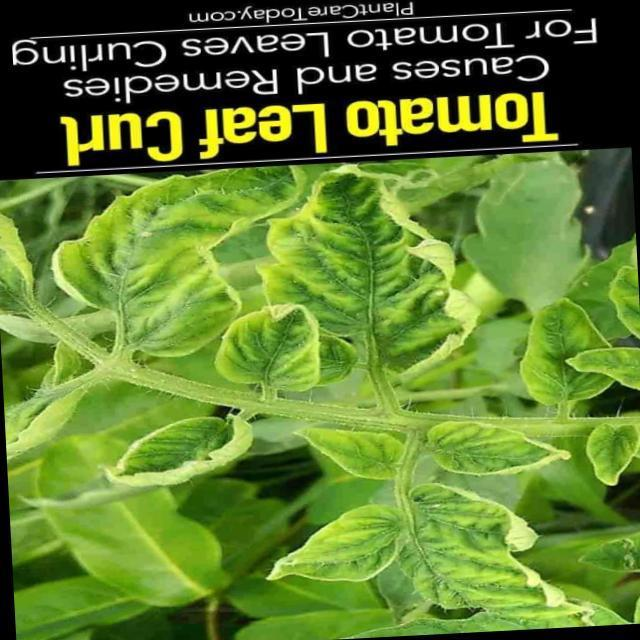Yellow Curl Virus: (48, 164, 313, 358), (255, 160, 484, 382), (403, 486, 570, 636), (98, 406, 258, 494), (264, 500, 409, 590), (511, 296, 618, 408), (418, 411, 572, 487), (224, 293, 328, 402), (290, 418, 410, 491), (587, 419, 640, 491)
